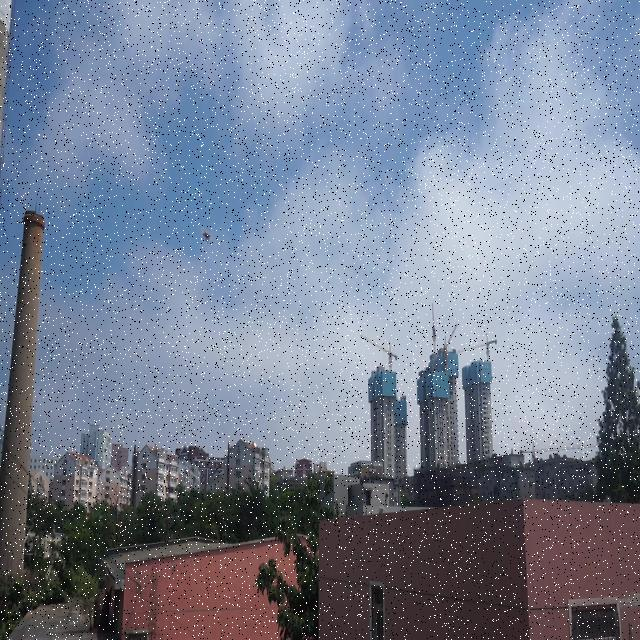UAV: (200, 226, 213, 244)
